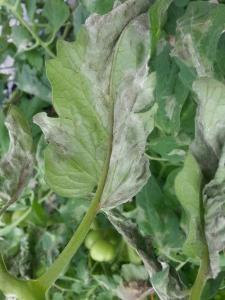Tomato leaf late blight: (35, 8, 168, 224)
